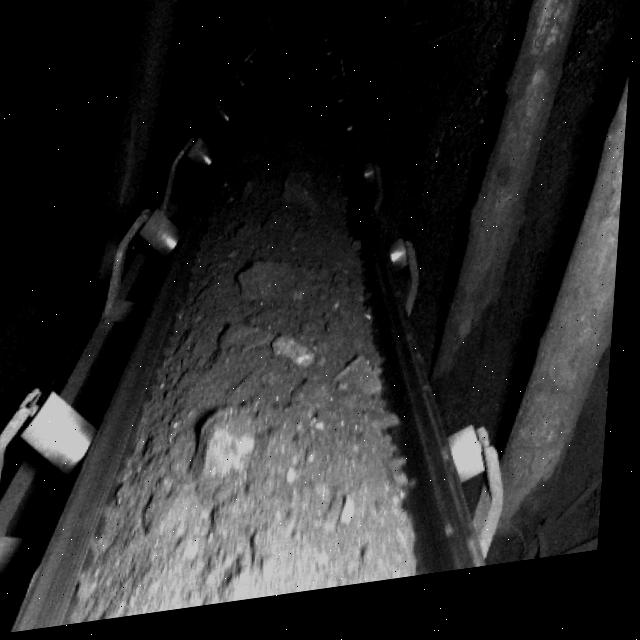large_sized_coal: (199, 413, 270, 491), (235, 262, 308, 316), (281, 172, 329, 231), (340, 368, 391, 416), (276, 337, 322, 389)
